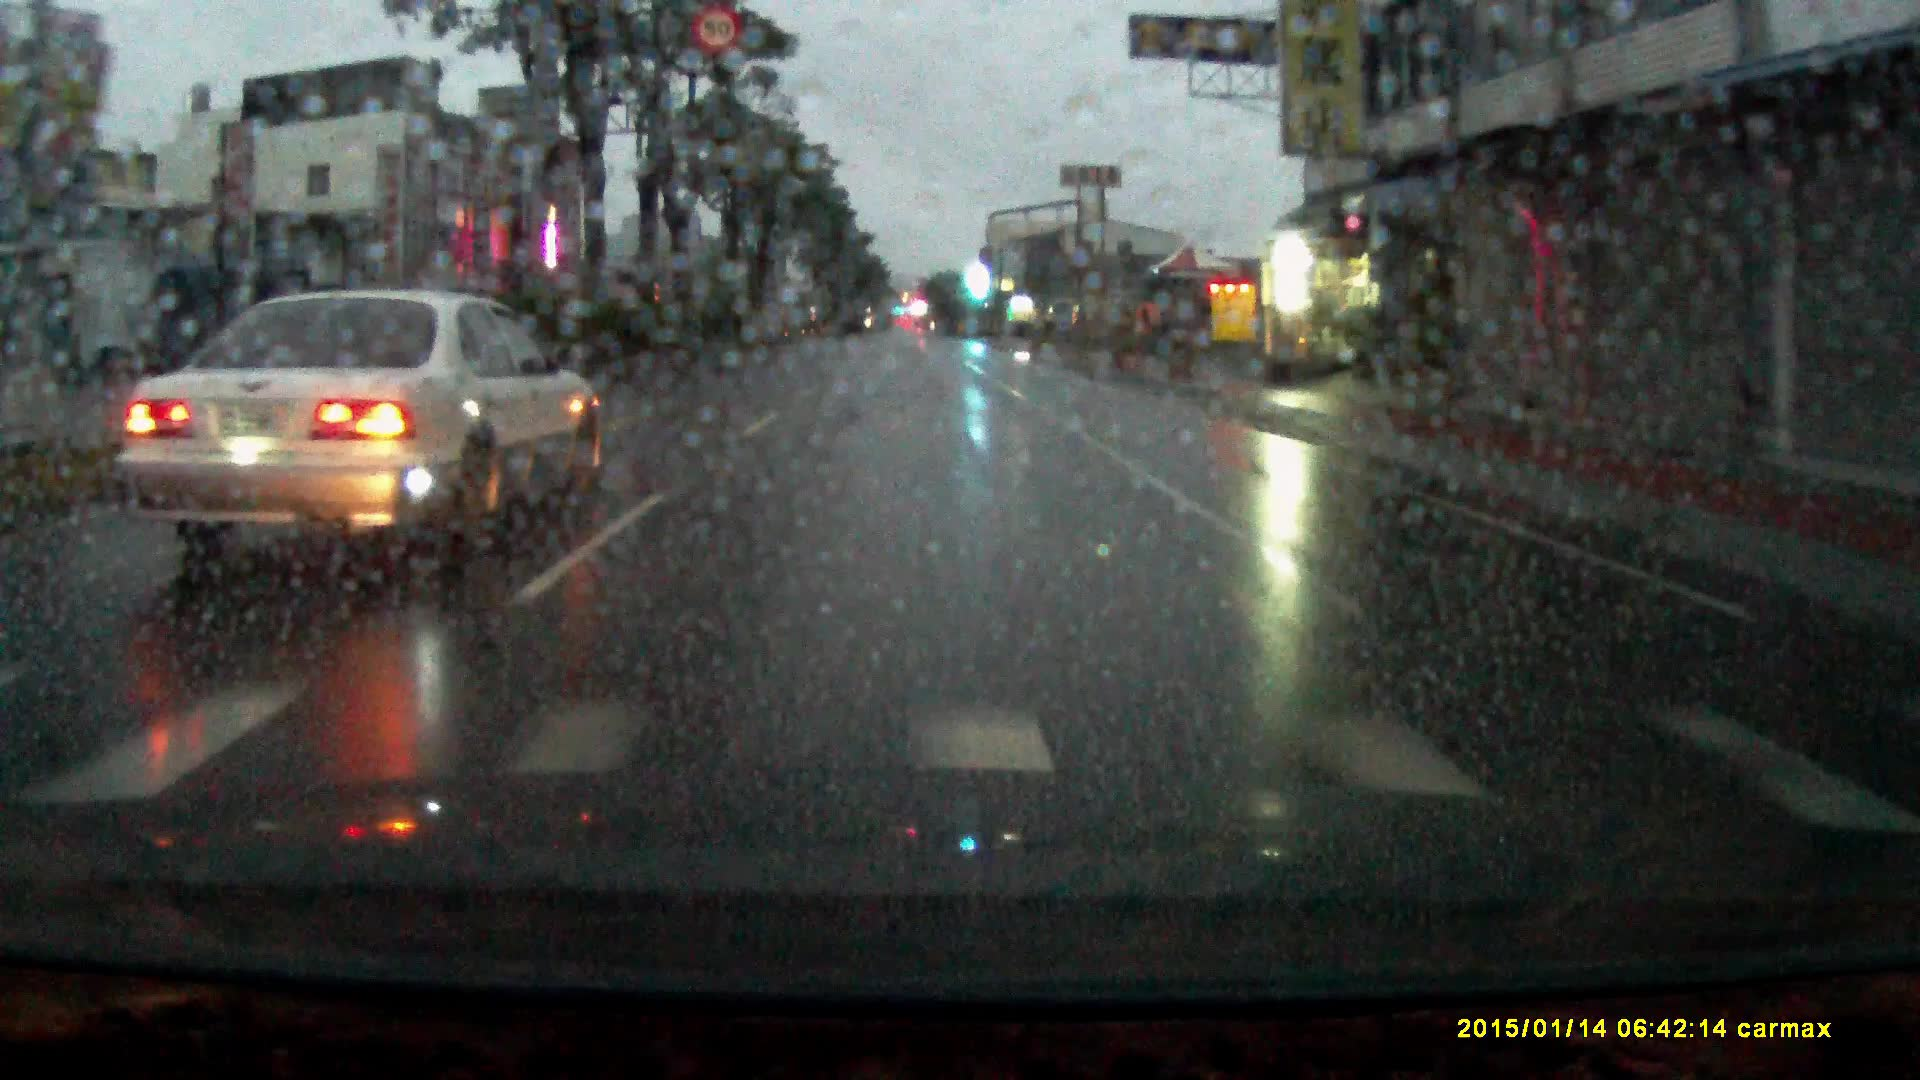vehicle: (115, 289, 604, 570)
